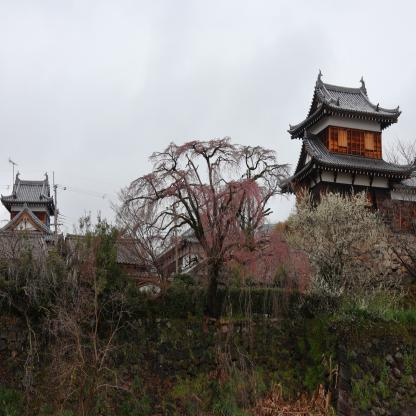Ume: (114, 132, 309, 316), (288, 187, 403, 328)
